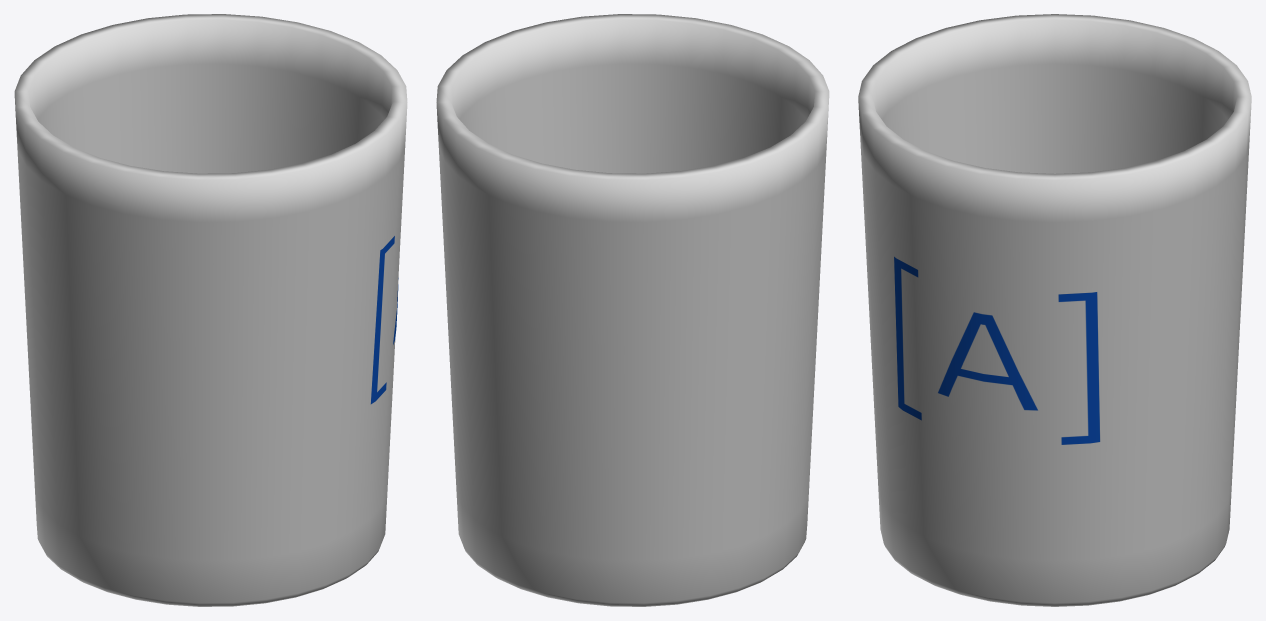
The model's file is 12oz-tumbler.gltf.
3 views of the same model, side by side, from view 1: azimuth 30°, elevation 25°; view 2: azimuth 150°, elevation 25°; view 3: azimuth 270°, elevation 25° (orthographic).
Parts seen in each view (by area): view 1: Cube; view 2: Cube; view 3: Cube.
Part boxes in pixels (x1,y1,x2,y2): Cube: [14, 14, 407, 606]; Cube: [436, 14, 829, 606]; Cube: [858, 14, 1251, 606].
Bounding box in the file's own units: 0.0816 × 0.1007 × 0.0816.
2 materials, 1 textured.
